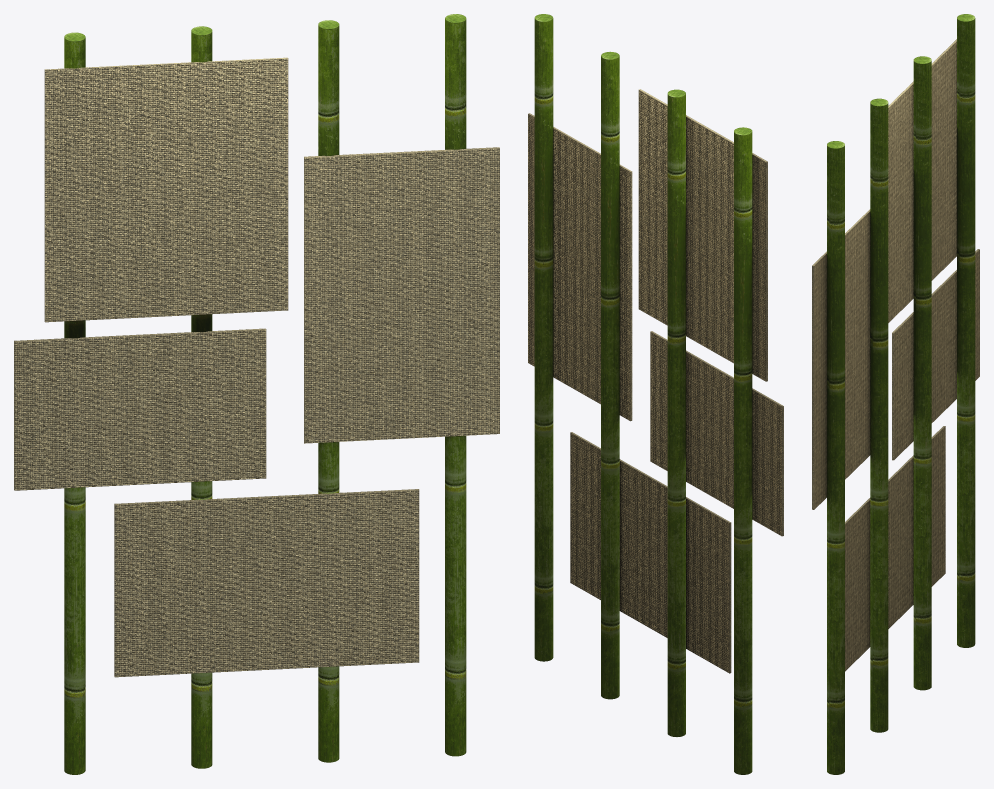
The model's file is Bamboo (2.19652, 7.39112, 0.3).glb.
3 views of the same model, side by side, from view 1: azimuth 30°, elevation 25°; view 2: azimuth 150°, elevation 25°; view 3: azimuth 270°, elevation 25° (orthographic). The views are drawn at different scales.
Visible parts, largest first — view 1: Cube.009, Cube.010, Cube.011, Cube.008, Bamboo.001; view 2: Bamboo.001, Cube.009, Cube.011, Cube.010, Cube.008; view 3: Bamboo.001, Cube.009, Cube.010, Cube.011, Cube.008.
Part boxes in pixels (x1=…): Cube.009: x1=44, y1=57, x2=288, y2=322; Cube.010: x1=304, y1=147, x2=499, y2=443; Cube.011: x1=114, y1=489, x2=419, y2=677; Cube.008: x1=14, y1=328, x2=266, y2=490; Bamboo.001: x1=64, y1=14, x2=466, y2=774; Bamboo.001: x1=534, y1=14, x2=752, y2=774; Cube.009: x1=638, y1=89, x2=767, y2=381; Cube.011: x1=570, y1=432, x2=731, y2=673; Cube.010: x1=528, y1=113, x2=632, y2=421; Cube.008: x1=650, y1=331, x2=783, y2=536; Bamboo.001: x1=827, y1=14, x2=975, y2=774; Cube.009: x1=888, y1=39, x2=956, y2=322; Cube.010: x1=812, y1=209, x2=870, y2=509; Cube.011: x1=845, y1=426, x2=945, y2=671; Cube.008: x1=892, y1=249, x2=979, y2=460.
Bounding box in the file's own units: 2.11 × 3.8 × 0.9231.
Materials: 2 (2 with a texture image).
